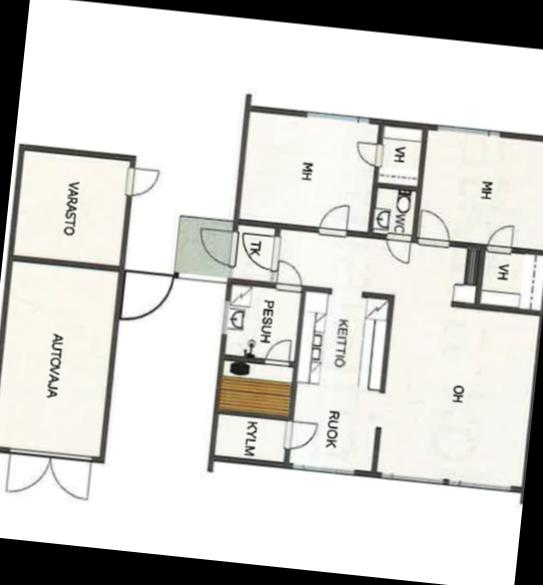door: (112, 268, 178, 326), (3, 446, 51, 496), (45, 450, 93, 498), (194, 223, 242, 269), (238, 228, 282, 274), (415, 205, 455, 252), (120, 162, 160, 200), (315, 200, 351, 238), (280, 416, 318, 452), (486, 219, 517, 255), (382, 230, 412, 266), (262, 334, 292, 370), (352, 139, 385, 171), (277, 258, 304, 294)
window: (374, 468, 448, 490), (288, 456, 361, 478), (430, 120, 505, 140), (442, 475, 515, 495), (297, 106, 376, 124), (216, 297, 234, 338)
